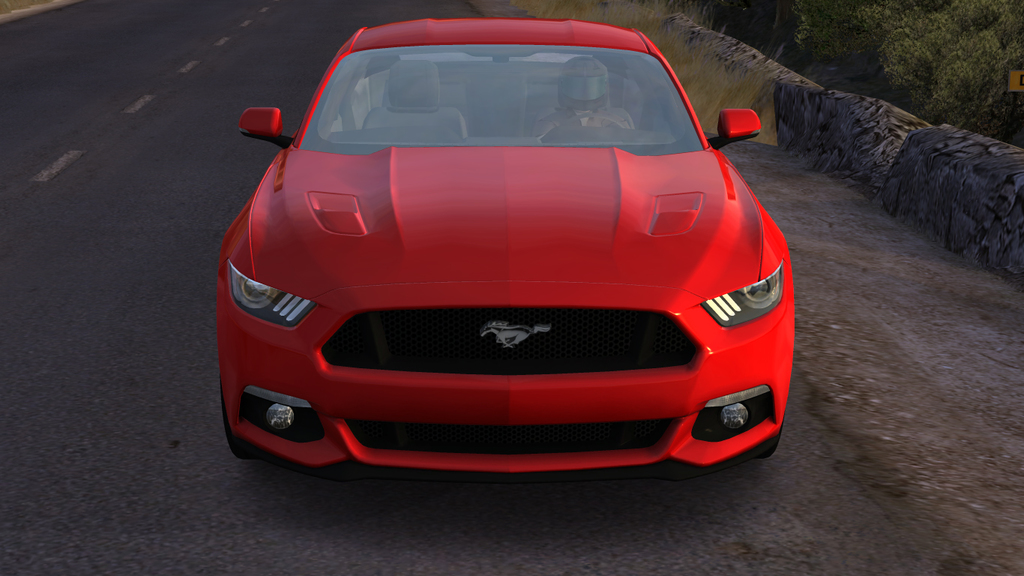Car: (204, 11, 798, 467)
